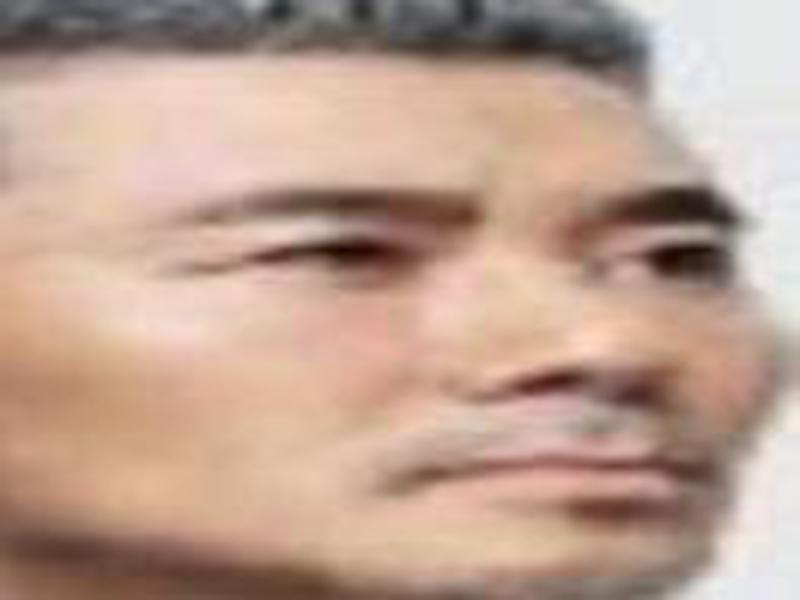without_mask: (1, 42, 793, 600)
